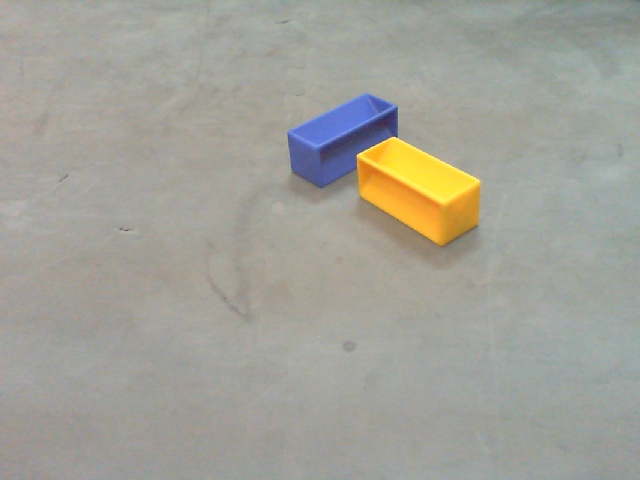BlueSample: (283, 92, 403, 189)
YellowSample: (353, 136, 483, 251)
